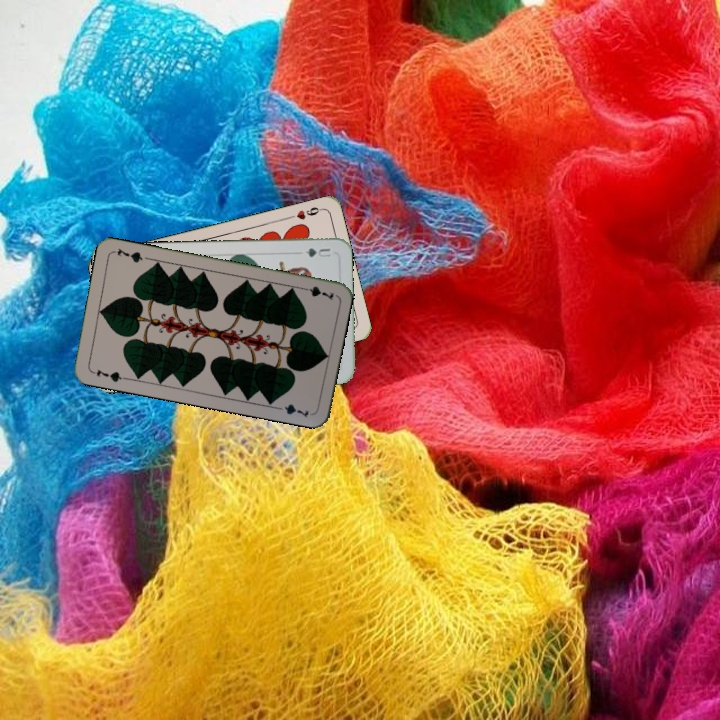G7: (296, 282, 336, 302), (88, 365, 128, 385)
GU: (302, 244, 334, 260)
H9: (285, 203, 325, 222)
